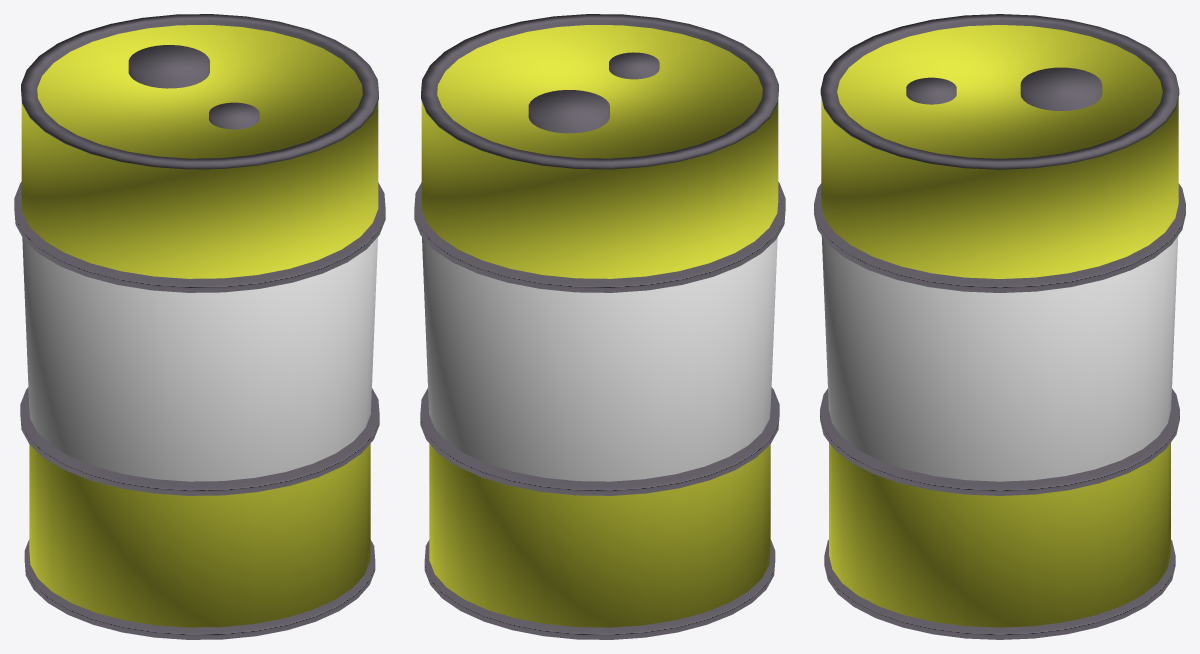
Rendered from yellowbarrel.glb.
3 renders of one model, left to right at view 1: azimuth 30°, elevation 25°; view 2: azimuth 150°, elevation 25°; view 3: azimuth 270°, elevation 25°, orthographic.
Parts seen in each view (by area): view 1: Cylinder, Cylinder.002, Cylinder.001, Cylinder.005, Cylinder.003, Cylinder.004; view 2: Cylinder, Cylinder.002, Cylinder.001, Cylinder.005, Cylinder.003, Cylinder.004; view 3: Cylinder, Cylinder.002, Cylinder.001, Cylinder.005, Cylinder.003, Cylinder.004.
Part boxes in pixels (<box>): Cylinder: <box>21,14,378,627</box>; Cylinder.002: <box>20,387,379,495</box>; Cylinder.001: <box>14,182,385,292</box>; Cylinder.005: <box>24,539,375,639</box>; Cylinder.003: <box>128,45,209,88</box>; Cylinder.004: <box>209,102,259,129</box>; Cylinder: <box>421,14,778,627</box>; Cylinder.002: <box>420,387,779,495</box>; Cylinder.001: <box>414,182,785,292</box>; Cylinder.005: <box>424,539,775,639</box>; Cylinder.003: <box>528,90,609,133</box>; Cylinder.004: <box>609,52,659,79</box>; Cylinder: <box>820,14,1179,627</box>; Cylinder.002: <box>820,388,1179,495</box>; Cylinder.001: <box>814,183,1185,292</box>; Cylinder.005: <box>824,539,1175,639</box>; Cylinder.003: <box>1020,67,1102,110</box>; Cylinder.004: <box>906,77,956,104</box>.
Size of the model in its own units: 1.07 by 1.53 by 1.07.
